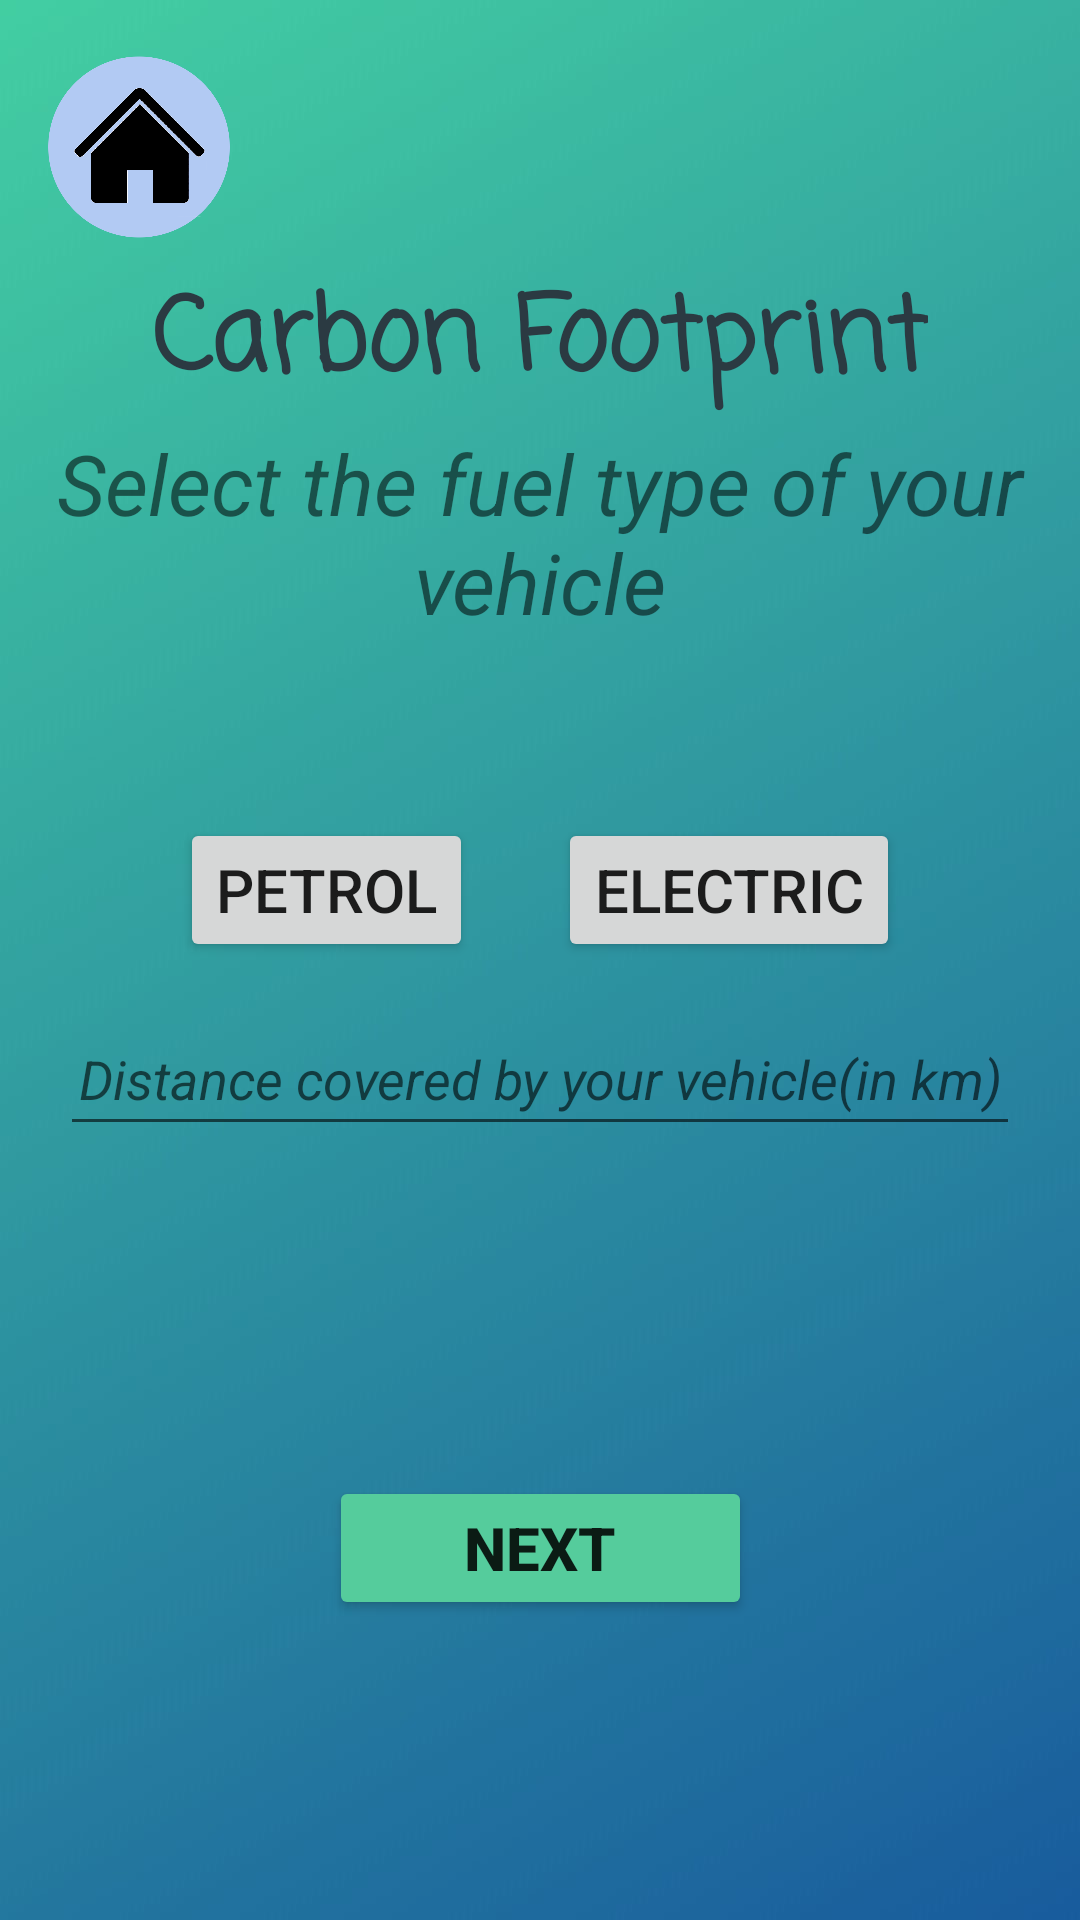

Icons on this 1080px×1920px Android screen, each with its box as (x1, y1, x2, y2):
home: (48, 56, 230, 238)
